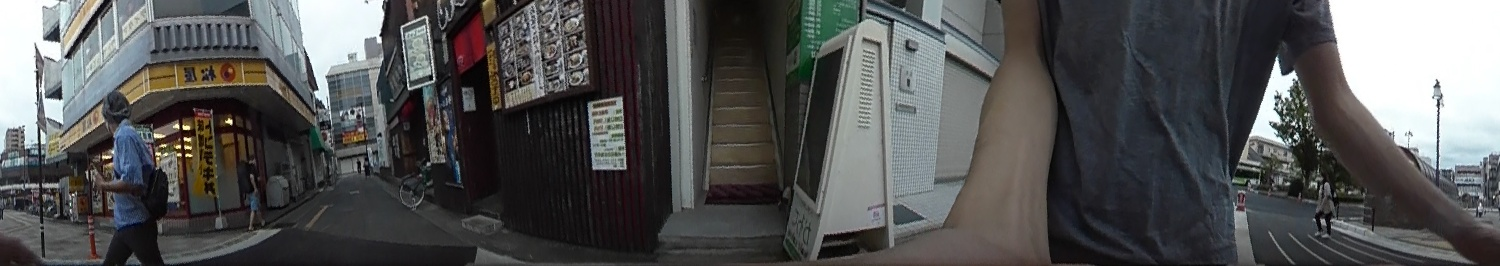person: (95, 90, 167, 266), (238, 155, 266, 230), (1314, 171, 1336, 237)
